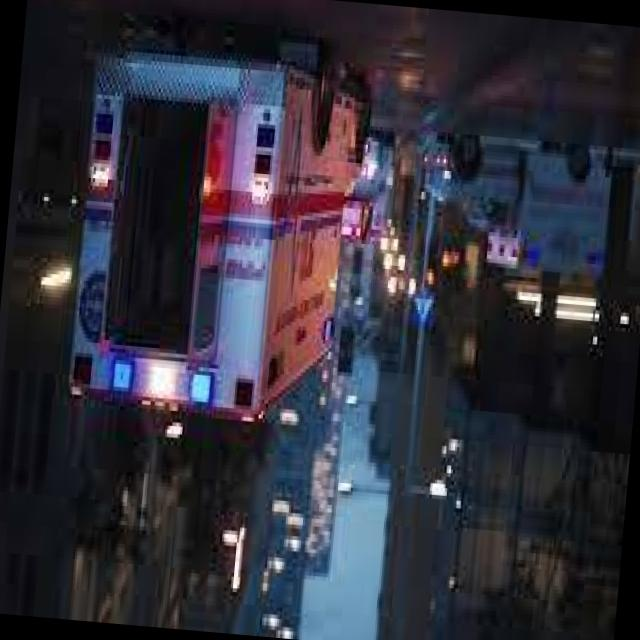ambulance: (58, 32, 376, 439)
